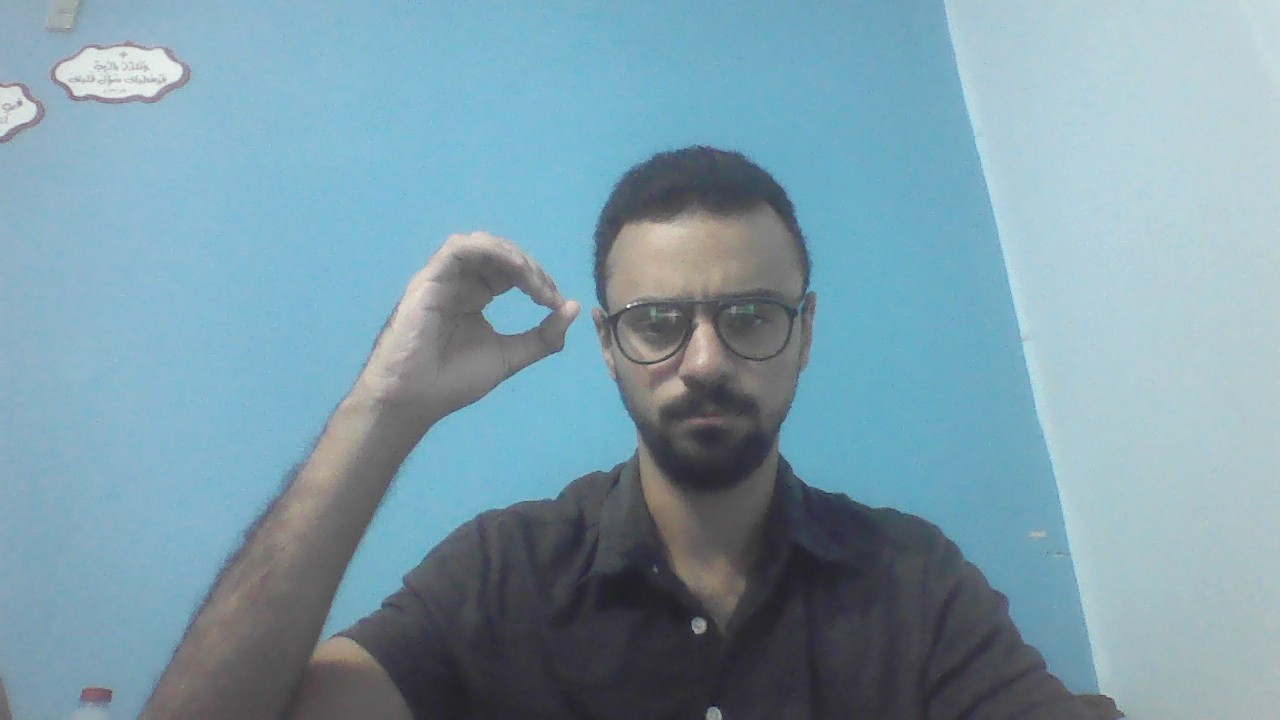okay: (363, 229, 576, 409)
